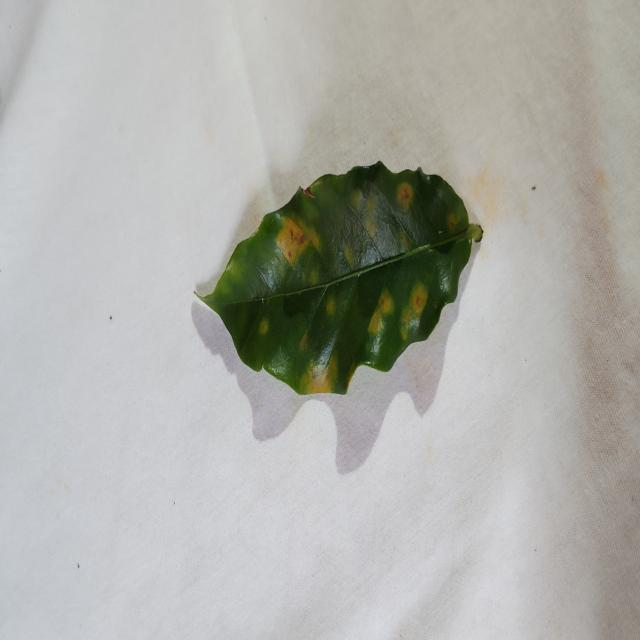Enfermedad-Roya: (197, 162, 483, 396)
